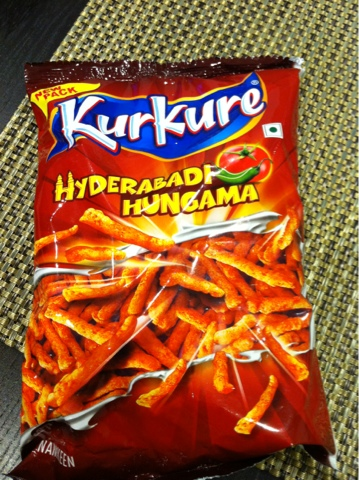kurkure: (56, 164, 285, 401), (48, 93, 282, 139)
plastic: (36, 82, 323, 442)
